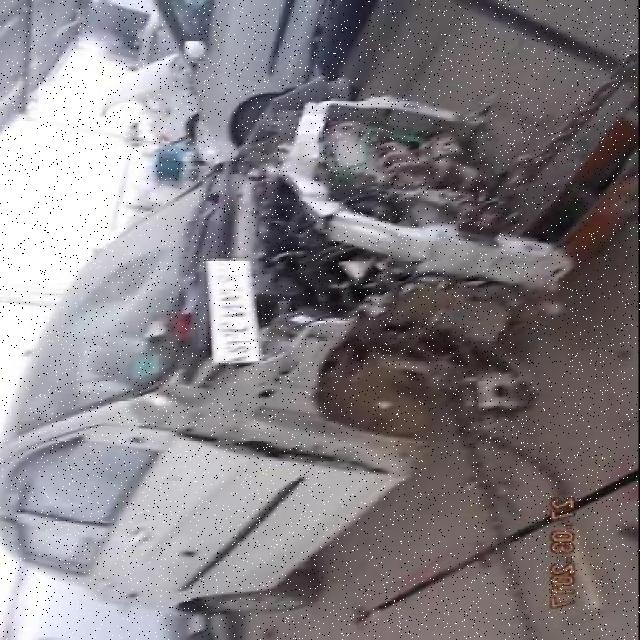damage: (220, 91, 548, 469)
